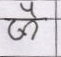ai_matra: (20, 1, 40, 18)
